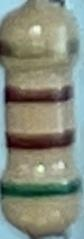Black: (7, 87, 73, 100)
Brown: (9, 130, 75, 149)
Green: (4, 181, 80, 193)
Side-Gold: (2, 38, 79, 55)
